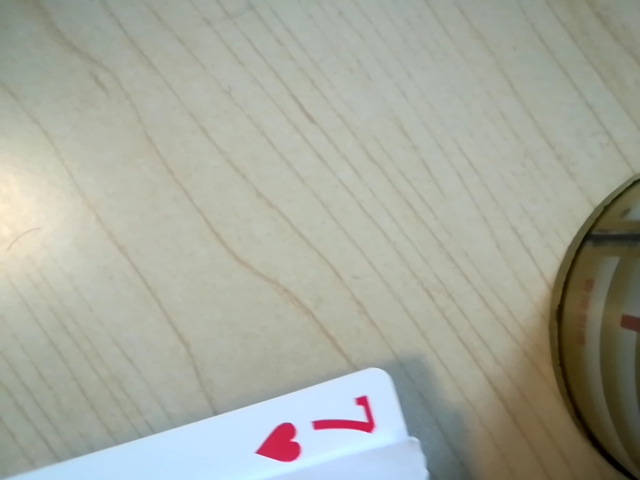hx 7: (253, 390, 395, 464)
